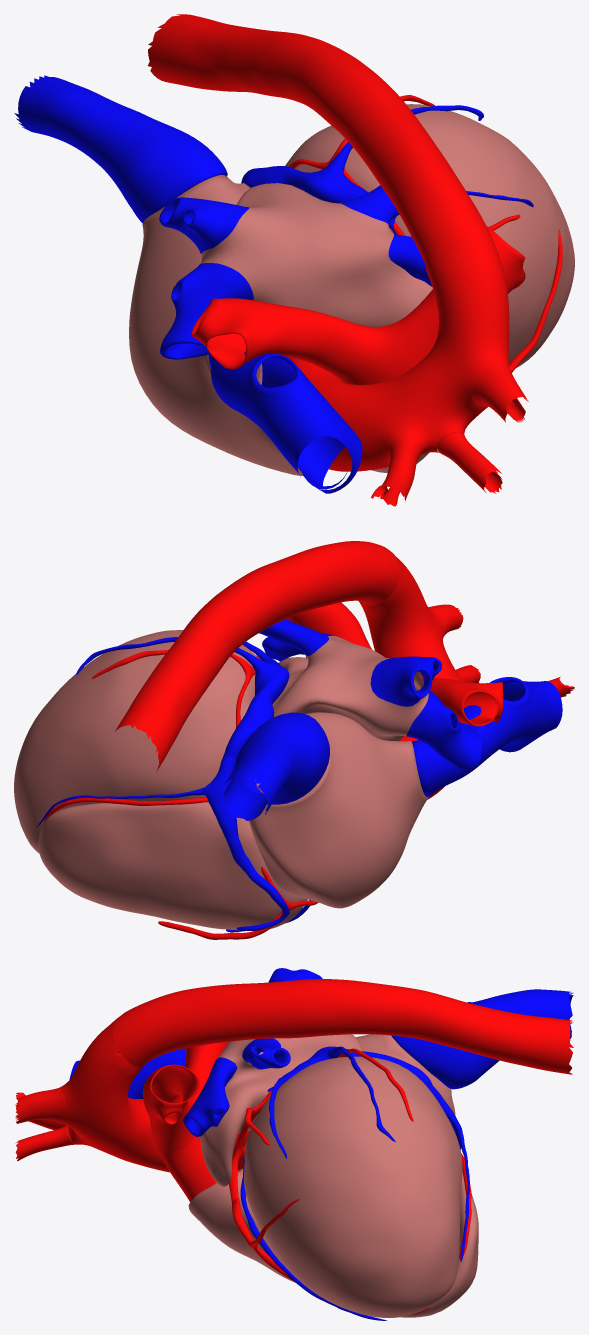
Rendered from heart-female.glb.
3 renders of one model, top to bottom at view 1: azimuth 30°, elevation 25°; view 2: azimuth 150°, elevation 25°; view 3: azimuth 270°, elevation 25°, orthographic. The views are drawn at different scales.
Parts seen in each view (by area): view 1: VH_F_descending_aorta_a, VH_F_left_cardiac_atrium, VH_F_aortic_arch, VH_F_left_ventricle, VH_F_right_cardiac_atrium, VH_F_pulmonary_artery_R, VH_F_superior_vena_cava, VH_F_inferior_vena_cava_a, VH_F_descending_aorta_b, VH_F_pulmonary_vein_R_sup, VH_F_inferior_vena_cava_b, VH_F_pulmonary_artery_L (+13 smaller); view 2: VH_F_left_ventricle, VH_F_right_ventricle, VH_F_right_cardiac_atrium, VH_F_descending_aorta_a, VH_F_left_cardiac_atrium, VH_F_superior_vena_cava, VH_F_aortic_arch, VH_F_inferior_vena_cava_a, VH_F_inferior_vena_cava_b, VH_F_pulmonary_vein_R_sup, VH_F_coronary_sinus, VH_F_descending_aorta_b (+13 smaller); view 3: VH_F_left_ventricle, VH_F_descending_aorta_a, VH_F_aortic_arch, VH_F_left_cardiac_atrium, VH_F_right_ventricle, VH_F_pulmonary_artery_L, VH_F_descending_aorta_b, VH_F_inferior_vena_cava_a, VH_F_pulmonary_vein_L_sup, VH_F_pulmonary_trunk, VH_F_inferior_vena_cava_b, VH_F_right_cardiac_atrium (+14 smaller).
Part boxes in pixels (x1,y1,x2,y2): VH_F_descending_aorta_a: (213, 26, 495, 260); VH_F_left_cardiac_atrium: (201, 183, 432, 326); VH_F_aortic_arch: (338, 238, 509, 469); VH_F_left_ventricle: (285, 104, 574, 368); VH_F_right_cardiac_atrium: (129, 175, 303, 476); VH_F_pulmonary_artery_R: (191, 298, 380, 384); VH_F_superior_vena_cava: (208, 351, 362, 493); VH_F_inferior_vena_cava_a: (76, 101, 227, 222); VH_F_descending_aorta_b: (148, 14, 238, 91); VH_F_pulmonary_vein_R_sup: (160, 263, 253, 359); VH_F_inferior_vena_cava_b: (14, 75, 114, 149); VH_F_pulmonary_artery_L: (386, 226, 525, 369); VH_F_left_ventricle: (14, 630, 257, 853); VH_F_right_ventricle: (38, 802, 307, 930); VH_F_right_cardiac_atrium: (249, 712, 428, 908); VH_F_descending_aorta_a: (139, 541, 400, 719); VH_F_left_cardiac_atrium: (272, 635, 428, 741); VH_F_superior_vena_cava: (411, 677, 562, 797); VH_F_aortic_arch: (359, 557, 464, 681); VH_F_inferior_vena_cava_a: (234, 712, 329, 804); VH_F_inferior_vena_cava_b: (223, 745, 291, 820); VH_F_pulmonary_vein_R_sup: (406, 691, 482, 770); VH_F_coronary_sinus: (203, 653, 289, 799); VH_F_descending_aorta_b: (114, 687, 187, 772); VH_F_left_ventricle: (244, 1056, 462, 1317); VH_F_descending_aorta_a: (112, 979, 509, 1067); VH_F_aortic_arch: (59, 1020, 156, 1164); VH_F_left_cardiac_atrium: (199, 1034, 363, 1186); VH_F_right_ventricle: (188, 1168, 478, 1317); VH_F_pulmonary_artery_L: (143, 1064, 199, 1151); VH_F_descending_aorta_b: (497, 1011, 573, 1074); VH_F_inferior_vena_cava_a: (391, 995, 510, 1089); VH_F_pulmonary_vein_L_sup: (183, 1057, 237, 1136); VH_F_pulmonary_trunk: (155, 1090, 239, 1201); VH_F_inferior_vena_cava_b: (502, 989, 573, 1040); VH_F_right_cardiac_atrium: (355, 1034, 455, 1115).
Bounding box in the file's own units: 158 × 127 × 213.
